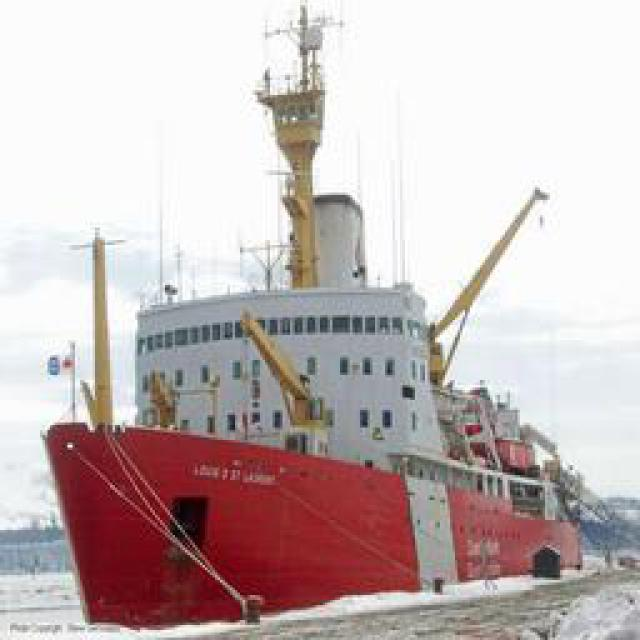Ship: (45, 409, 555, 629)
